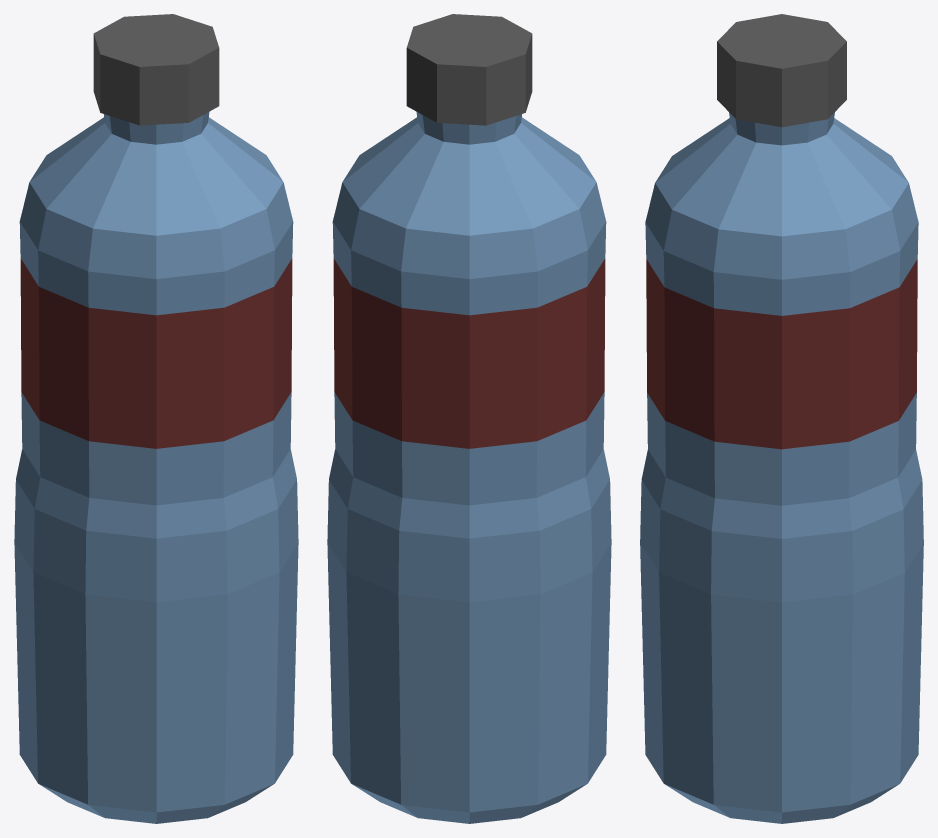
Rendered from water_bottle_3.glb.
The picture shows the model from 3 angles, left to right: view 1: azimuth 30°, elevation 25°; view 2: azimuth 150°, elevation 25°; view 3: azimuth 270°, elevation 25°; orthographic projection.
Parts seen in each view (by area): view 1: WaterBottle_3; view 2: WaterBottle_3; view 3: WaterBottle_3.
Part boxes in pixels (x1,y1,x2,y2): WaterBottle_3: (14,14,298,823); WaterBottle_3: (327,14,611,823); WaterBottle_3: (640,14,923,823).
Size of the model in its own units: 0.4995 by 1.44 by 0.4995.
